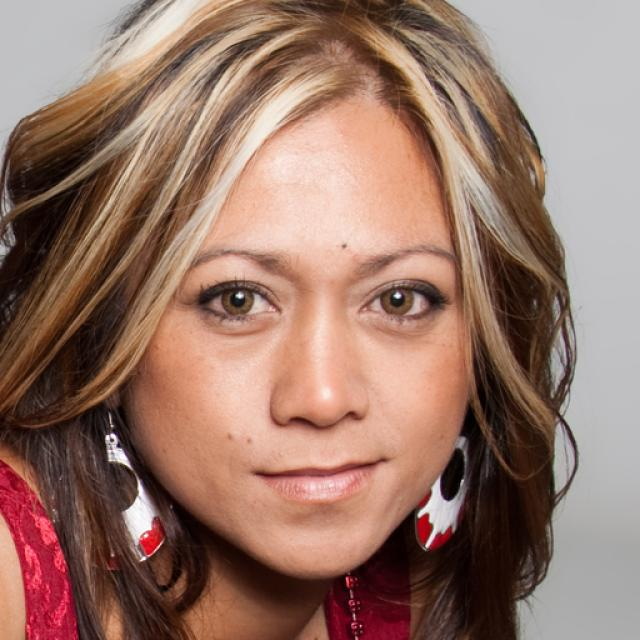Acne: (217, 426, 239, 446), (243, 432, 261, 451)
